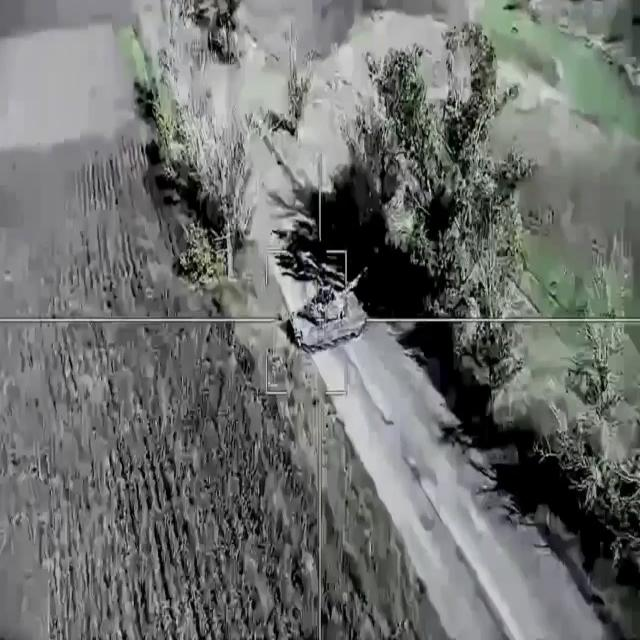cars: (190, 0, 238, 55)
tank: (289, 288, 368, 350)
